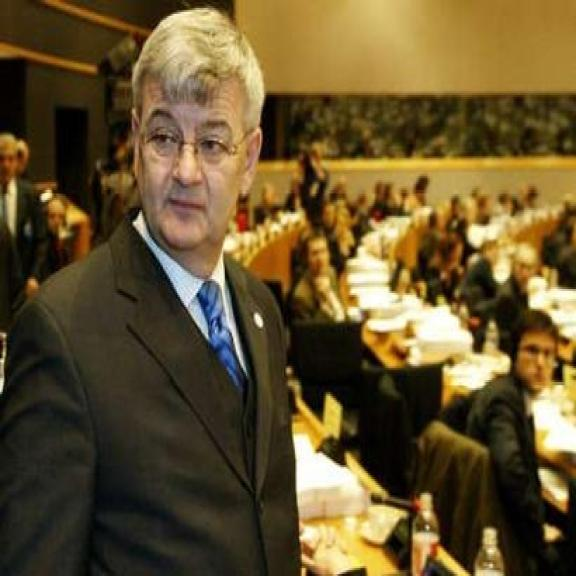face: (130, 74, 261, 255), (514, 330, 557, 394), (2, 140, 17, 189)
